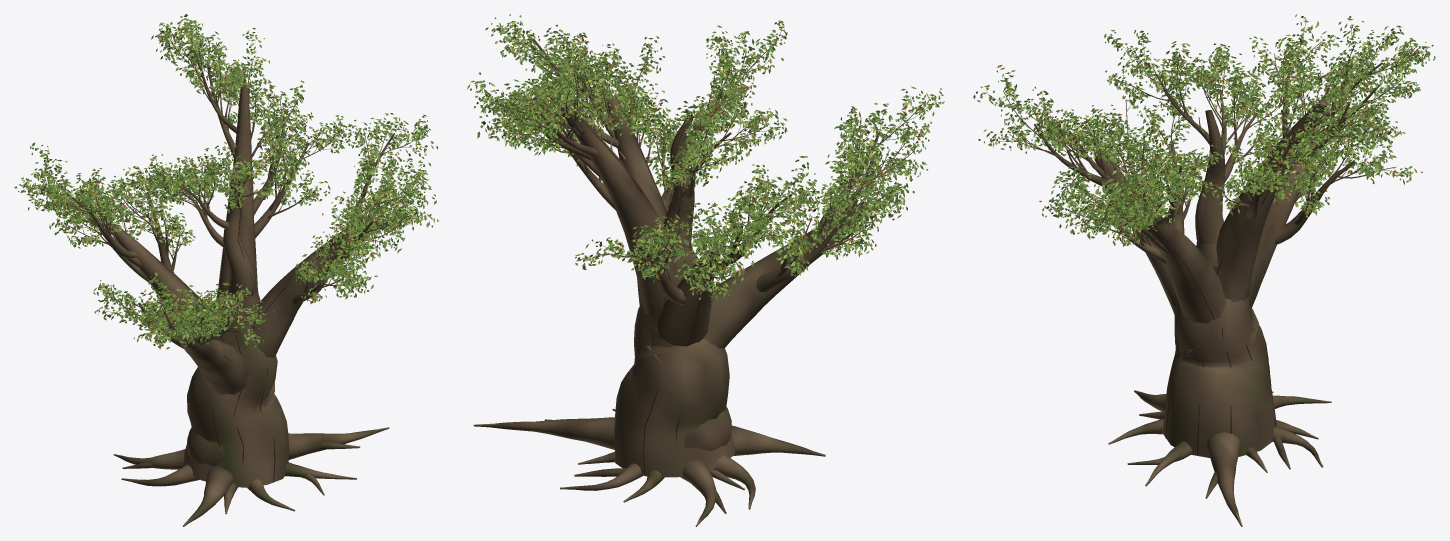
Rendered from ancient_tree_10.glb.
3 views of the same model, side by side, from view 1: azimuth 30°, elevation 25°; view 2: azimuth 150°, elevation 25°; view 3: azimuth 270°, elevation 25° (orthographic). The views are drawn at different scales.
Visible parts, largest first — view 1: AncientLeaves, AncientTreeWood, FineBranches, DirectedBarkGrooves; view 2: AncientTreeWood, AncientLeaves, FineBranches, DirectedBarkGrooves; view 3: AncientTreeWood, AncientLeaves, FineBranches, DirectedBarkGrooves.
Boxes of the visible parts, bbox=[...] form: AncientLeaves: bbox=[14, 14, 438, 349]; AncientTreeWood: bbox=[38, 27, 419, 526]; FineBranches: bbox=[24, 23, 425, 337]; DirectedBarkGrooves: bbox=[112, 87, 362, 482]; AncientTreeWood: bbox=[473, 33, 921, 526]; AncientLeaves: bbox=[467, 14, 944, 300]; FineBranches: bbox=[482, 24, 936, 291]; DirectedBarkGrooves: bbox=[568, 100, 860, 475]; AncientTreeWood: bbox=[1003, 42, 1417, 526]; AncientLeaves: bbox=[973, 14, 1435, 246]; FineBranches: bbox=[983, 22, 1425, 240]; DirectedBarkGrooves: bbox=[1095, 106, 1324, 455].
Size of the model in its own units: 18.53 by 20.8 by 19.86.
